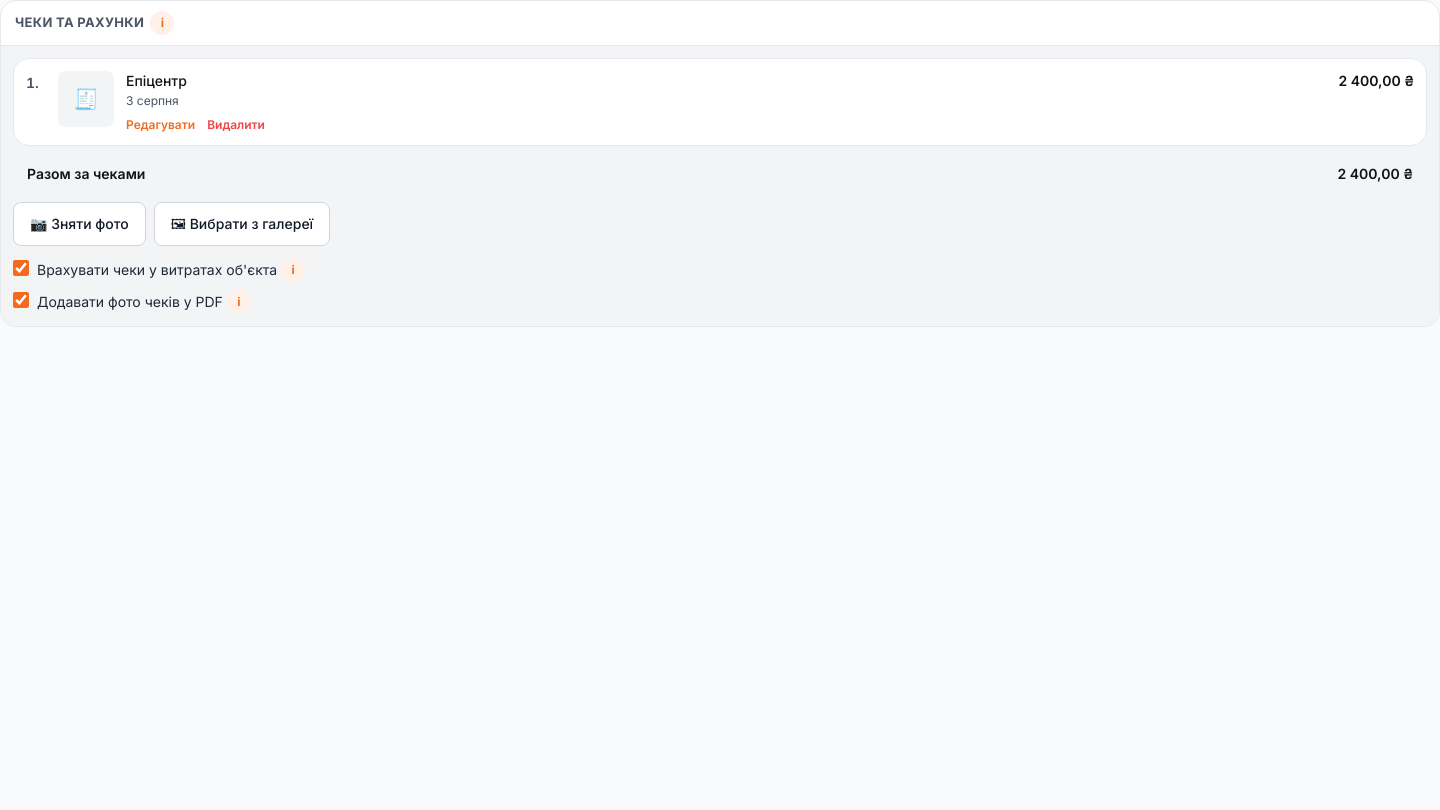
Test: ActReceiptsSection › the re-read is disabled when it could only overwrite what is already there
The width and height of the screenshot is (1440, 810).
Click the button "Редагувати" at (161, 125), box [126, 117, 195, 133]
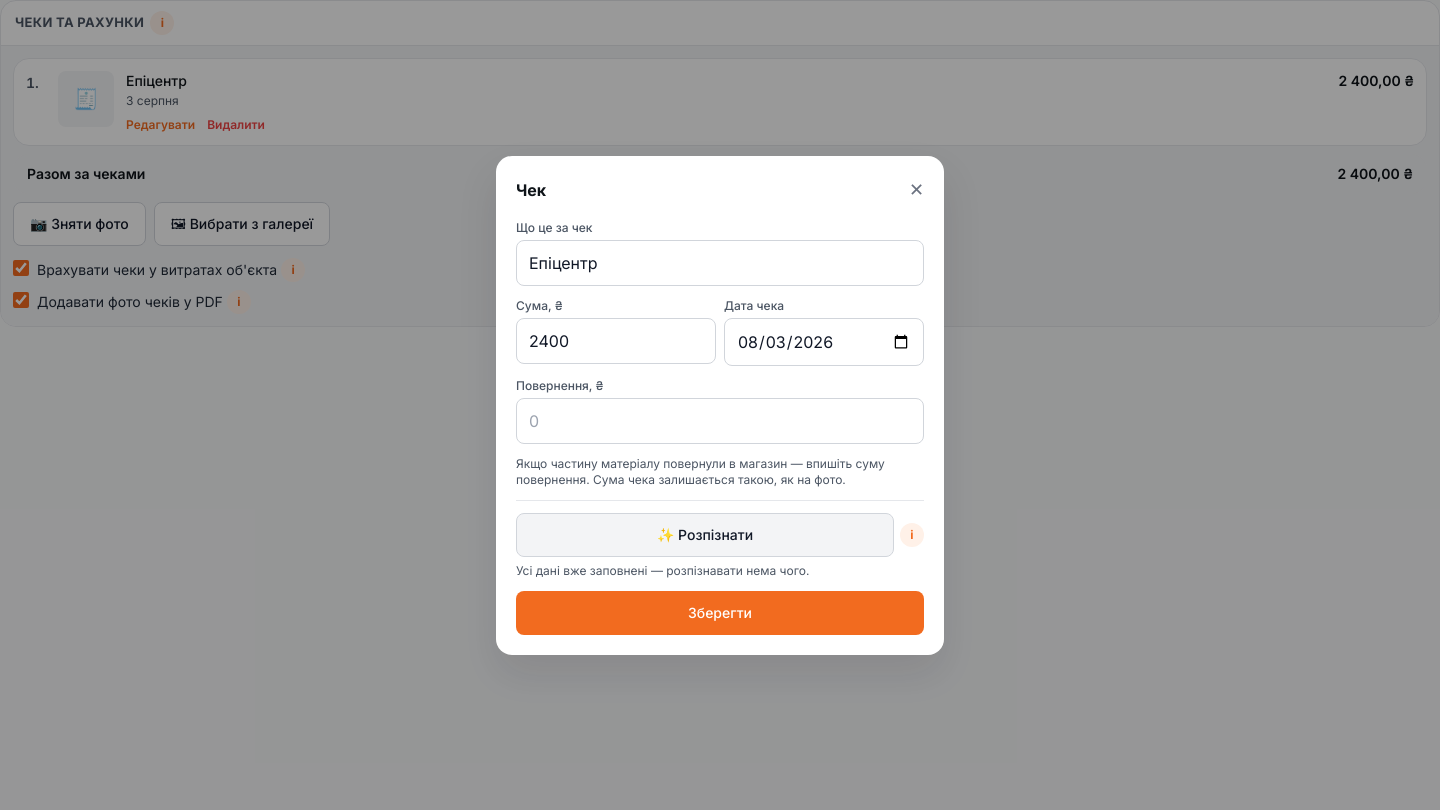
Expected: the button "✨ Розпізнати" is disabled, [516, 512, 894, 556]
Expected: the text "Усі дані вже заповнені — розпізнавати нема чого." is shown, [516, 562, 809, 578]
Clear the date and it has work to do again.
Clear the date field showing "2026-08-03" at (824, 342), box [724, 318, 924, 366]
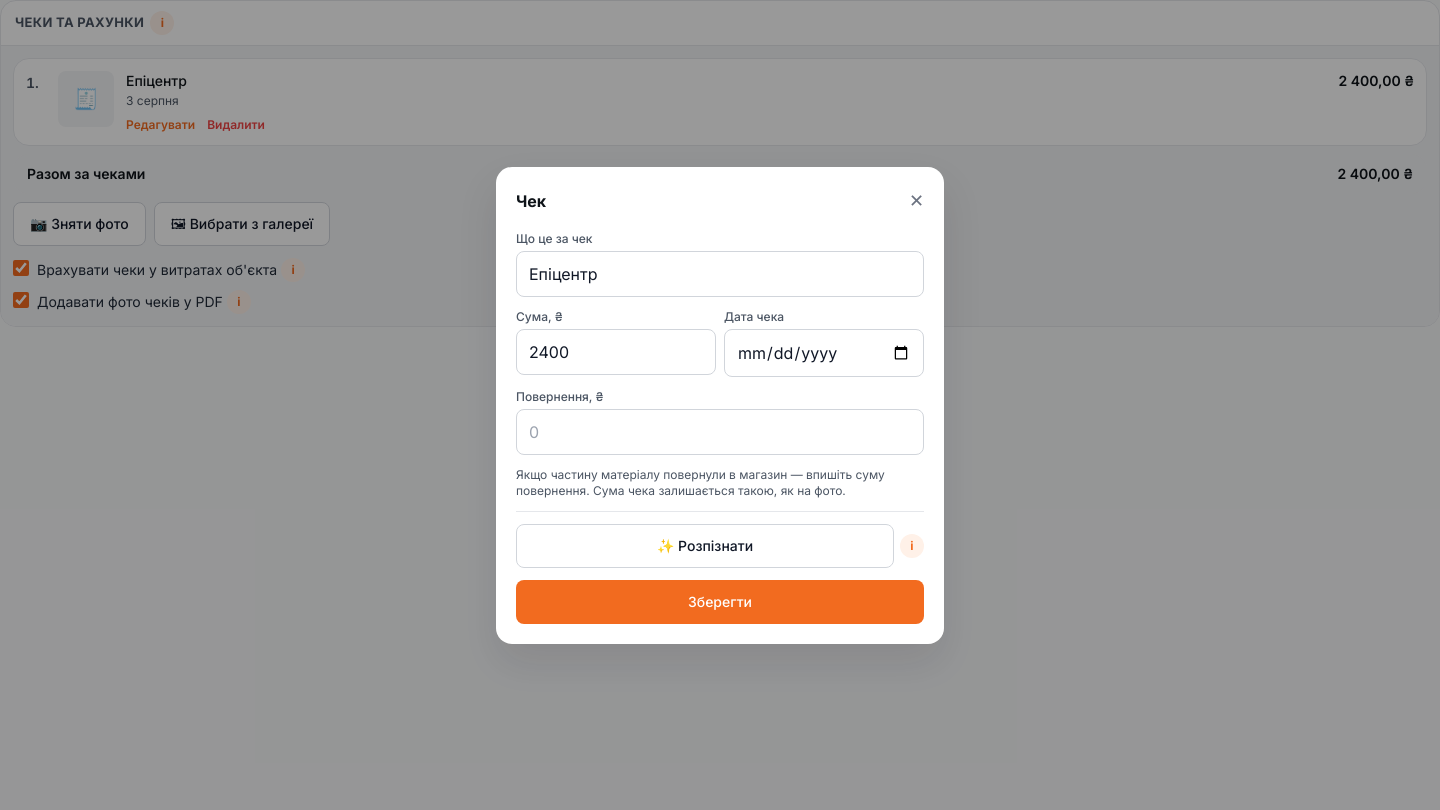
Expected: the button "✨ Розпізнати" is enabled, [516, 524, 894, 568]
